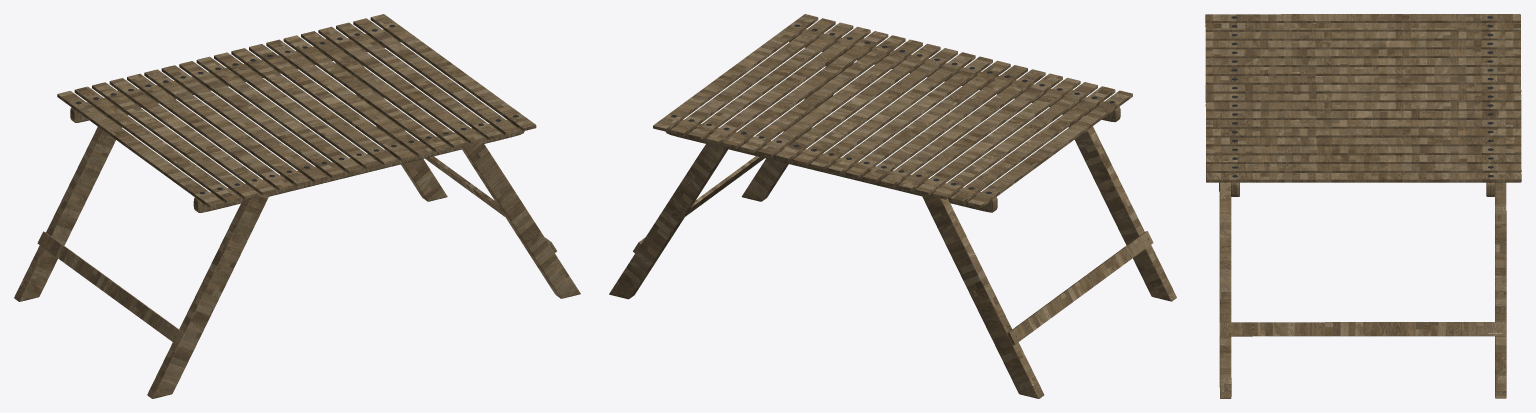
Rendered from BeachTable_colliders.fbx.
3 views of the same model, side by side, from view 1: azimuth 30°, elevation 25°; view 2: azimuth 150°, elevation 25°; view 3: azimuth 270°, elevation 25° (orthographic). The views are drawn at different scales.
Visible parts, largest first — view 1: Cube.003, Cube, Cube.002, Cube.004; view 2: Cube.003, Cube, Cube.002, Cube.004; view 3: Cube.003, Cube, Cube.002, Sphere.001, Sphere.
Boxes of the visible parts, box(x1,y1,x2,y2) form: Cube.003: box(57, 14, 536, 207); Cube: box(14, 38, 580, 398); Cube.002: box(37, 156, 556, 345); Cube.004: box(70, 29, 524, 212); Cube.003: box(653, 14, 1132, 207); Cube: box(609, 38, 1176, 398); Cube.002: box(633, 156, 1153, 345); Cube.004: box(666, 29, 1120, 212); Cube.003: box(1205, 14, 1521, 182); Cube: box(1219, 182, 1506, 398); Cube.002: box(1219, 322, 1506, 336); Sphere.001: box(1487, 16, 1493, 177); Sphere: box(1231, 16, 1238, 177).
Bounding box in the file's own units: 0.7334 × 0.3055 × 0.451.
